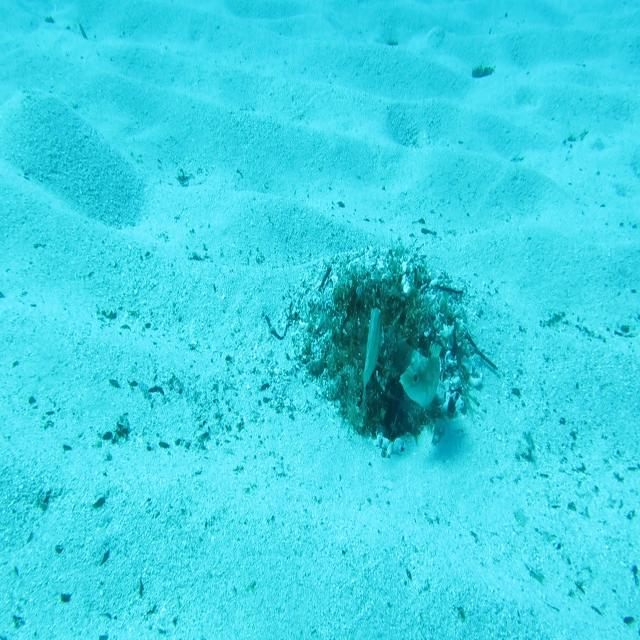BEND: (388, 335, 443, 413)
core_nest: (358, 292, 397, 335)
female: (358, 303, 384, 407)
nest: (279, 229, 487, 472)
vegetation: (470, 62, 496, 81)
